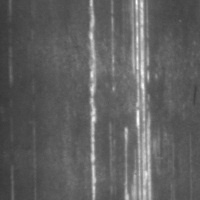scratches: (120, 1, 154, 200), (84, 1, 101, 200)
